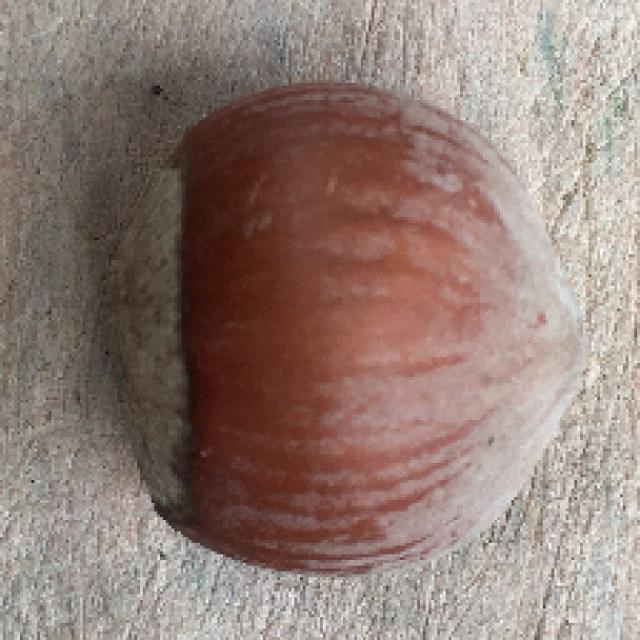qualityHazelnut: (106, 78, 588, 581)
